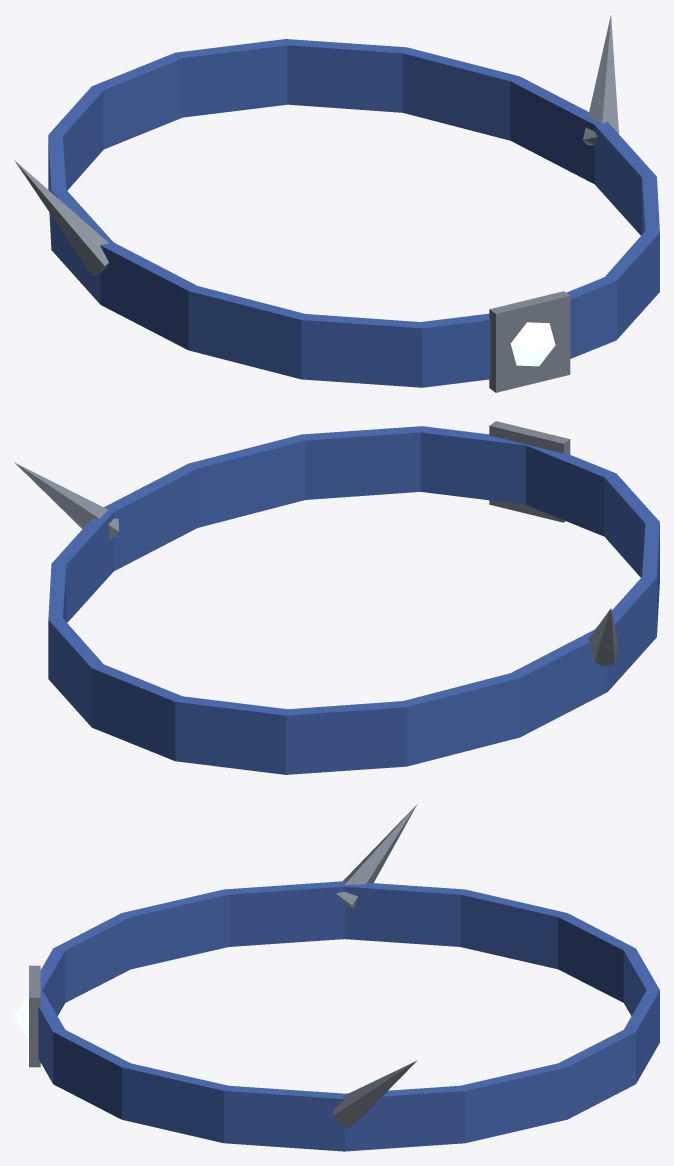
File: armor_knight_head_rare_human.glb
3 views of the same model, one above another, from view 1: azimuth 30°, elevation 25°; view 2: azimuth 150°, elevation 25°; view 3: azimuth 270°, elevation 25° (orthographic). The views are drawn at different scales.
Visible parts, largest first — view 1: armor_knight_head_rare_human__head; view 2: armor_knight_head_rare_human__head; view 3: armor_knight_head_rare_human__head.
Boxes of the visible parts, bbox=[...] form: armor_knight_head_rare_human__head: bbox=[14, 15, 659, 392]; armor_knight_head_rare_human__head: bbox=[14, 421, 659, 774]; armor_knight_head_rare_human__head: bbox=[14, 804, 659, 1151].
Size of the model in its own units: 64.14 by 13.9 by 68.19.
